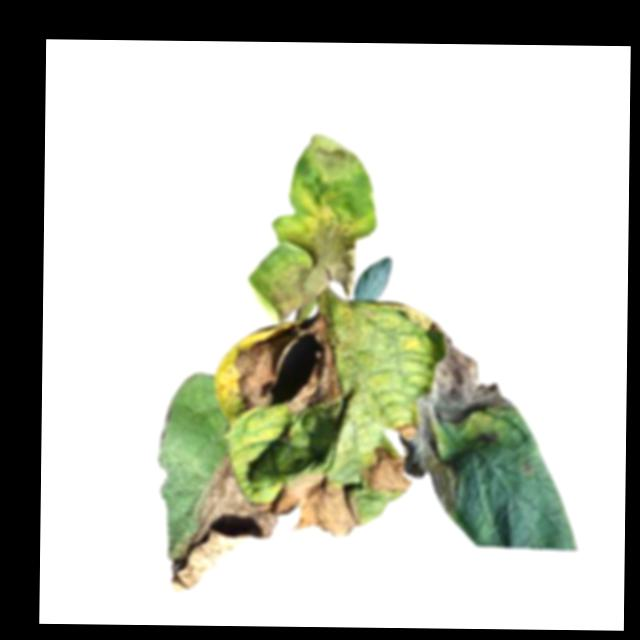Late_blight: (169, 452, 281, 595), (233, 312, 344, 418), (270, 208, 359, 326), (428, 332, 514, 423), (395, 397, 461, 513), (253, 471, 361, 537), (304, 131, 369, 189), (361, 445, 414, 496)
